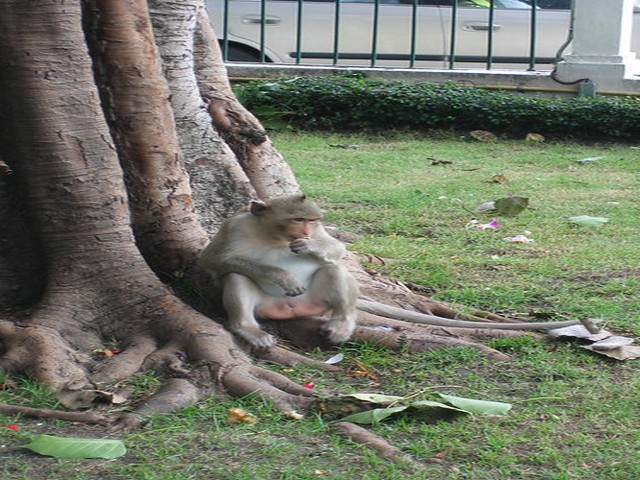Monkey: (193, 190, 482, 338)
